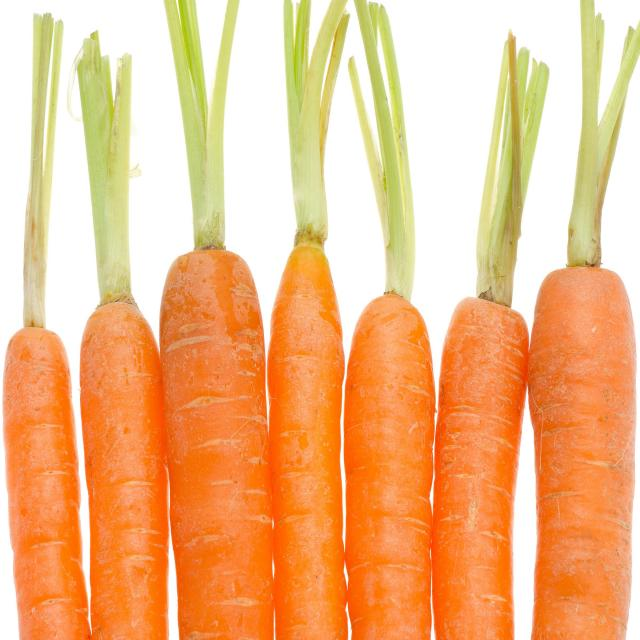Carrot: (162, 243, 273, 640), (528, 260, 638, 640), (342, 287, 437, 640), (433, 291, 528, 640), (268, 239, 349, 640), (77, 297, 171, 640), (0, 320, 89, 640)
